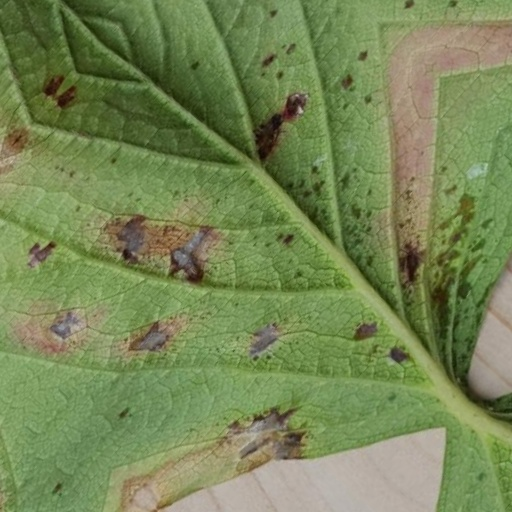Angular Leafspot: (4, 0, 511, 511)
